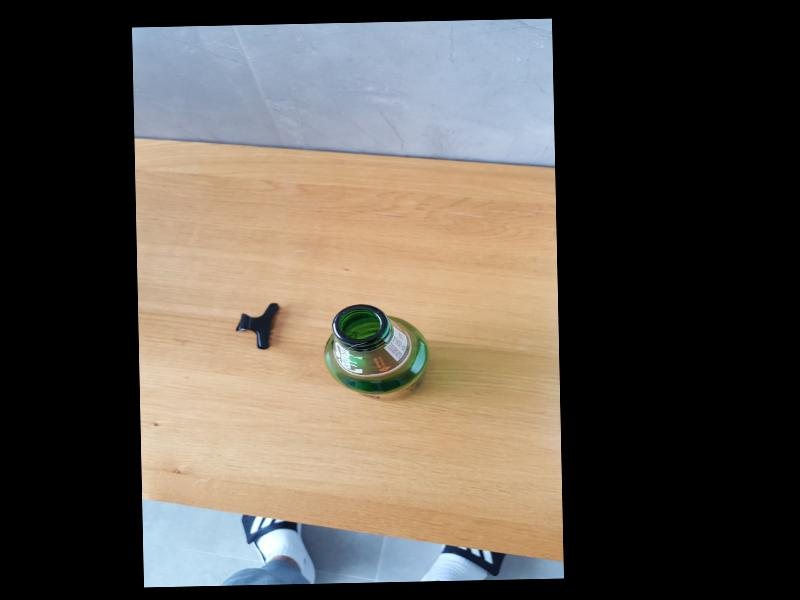Beer: (320, 303, 429, 403)
